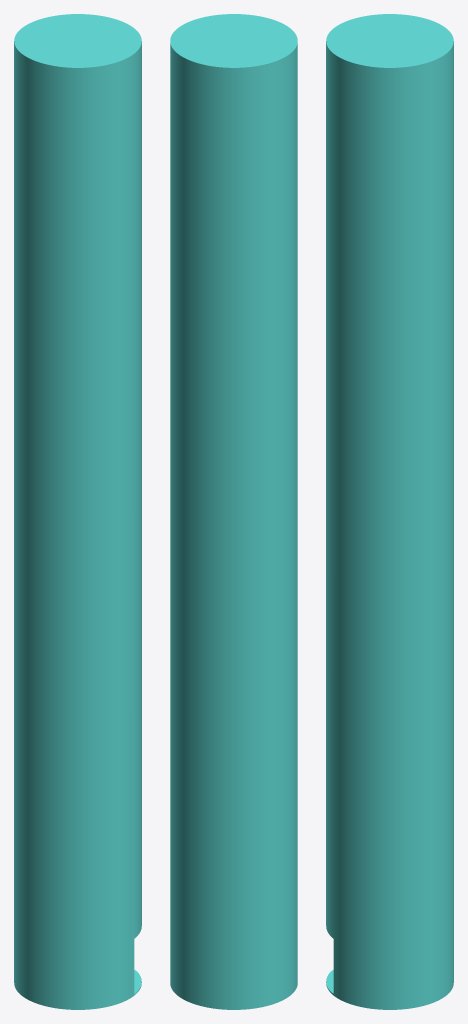
The model's file is elevator_glass.fbx.
3 views of the same model, side by side, from view 1: azimuth 90°, elevation 25°; view 2: azimuth 150°, elevation 25°; view 3: azimuth 270°, elevation 25° (orthographic).
Visible parts, largest first — view 1: elevator_glass; view 2: elevator_glass; view 3: elevator_glass.
Part boxes in pixels (x1,y1,x2,y2): elevator_glass: [14, 14, 141, 1009]; elevator_glass: [170, 14, 297, 1009]; elevator_glass: [326, 14, 453, 1009].
Size of the model in its own units: 569 by 4634 by 569.
